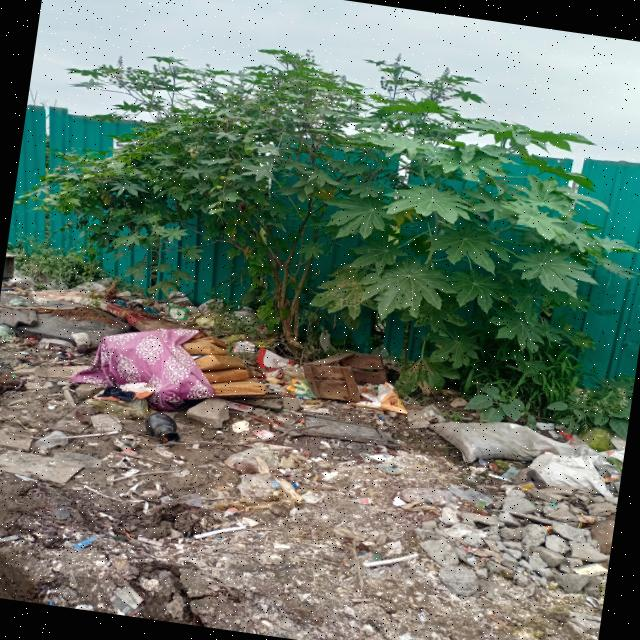garbage: (0, 252, 395, 440), (418, 394, 628, 503)
